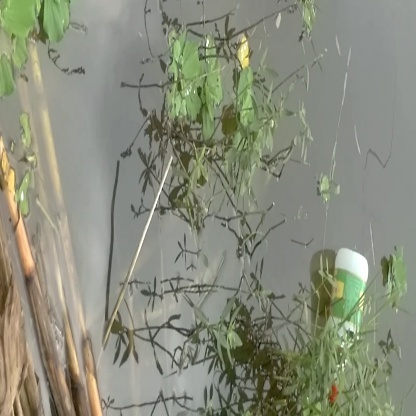bottle: (319, 239, 371, 402)
